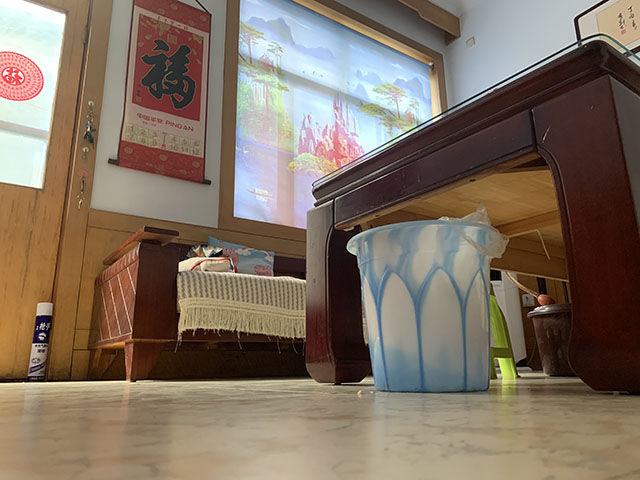sofa: (85, 225, 306, 381)
table: (306, 33, 640, 398)
trashcan: (344, 201, 510, 394)
